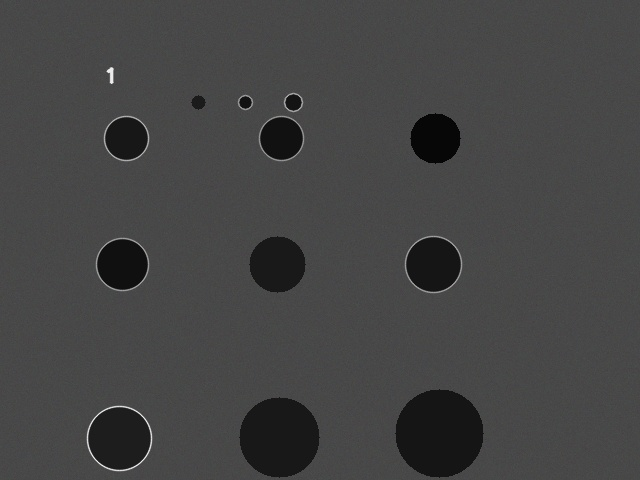hole: (395, 389, 483, 477), (239, 397, 319, 477), (87, 406, 151, 470), (249, 236, 305, 292), (405, 236, 461, 292), (96, 238, 148, 290), (410, 113, 460, 163), (104, 116, 148, 160), (259, 116, 303, 160), (284, 93, 302, 111), (191, 95, 205, 109), (238, 95, 252, 109)
